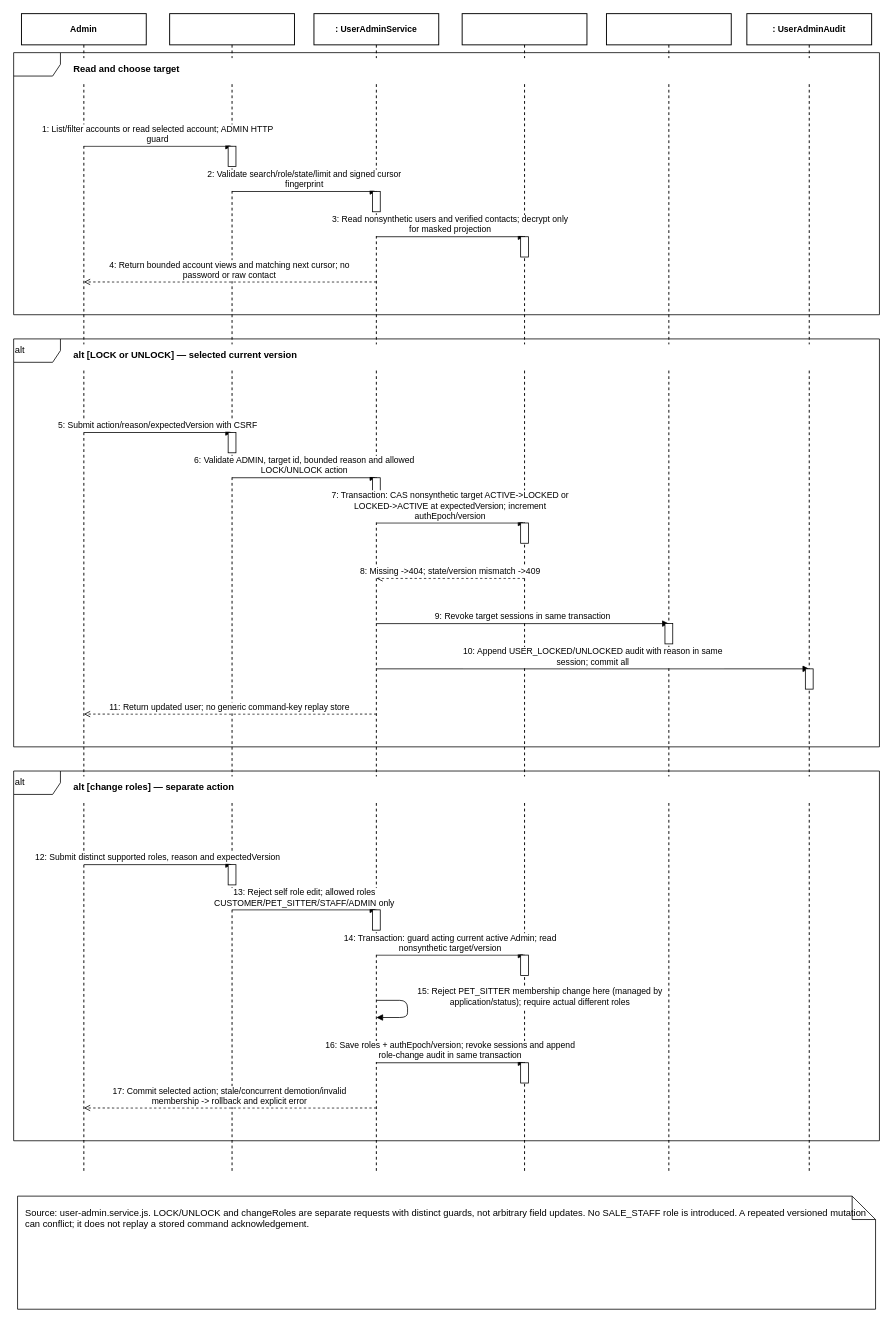
Some shapes in this 893 by 1324 pixel diagram are drawn without their labels. Here are the shapes that lost their labels. From the top down, the box of each, then its label:
(13, 52, 879, 315): ref
(169, 13, 295, 1173): : UserAdminController
(461, 13, 587, 1173): : User / Contact
(606, 13, 731, 1173): : SessionService
